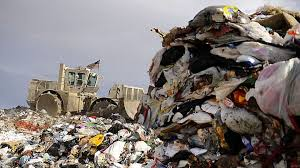garbage: (150, 30, 297, 168), (187, 4, 298, 168), (1, 111, 299, 168)
